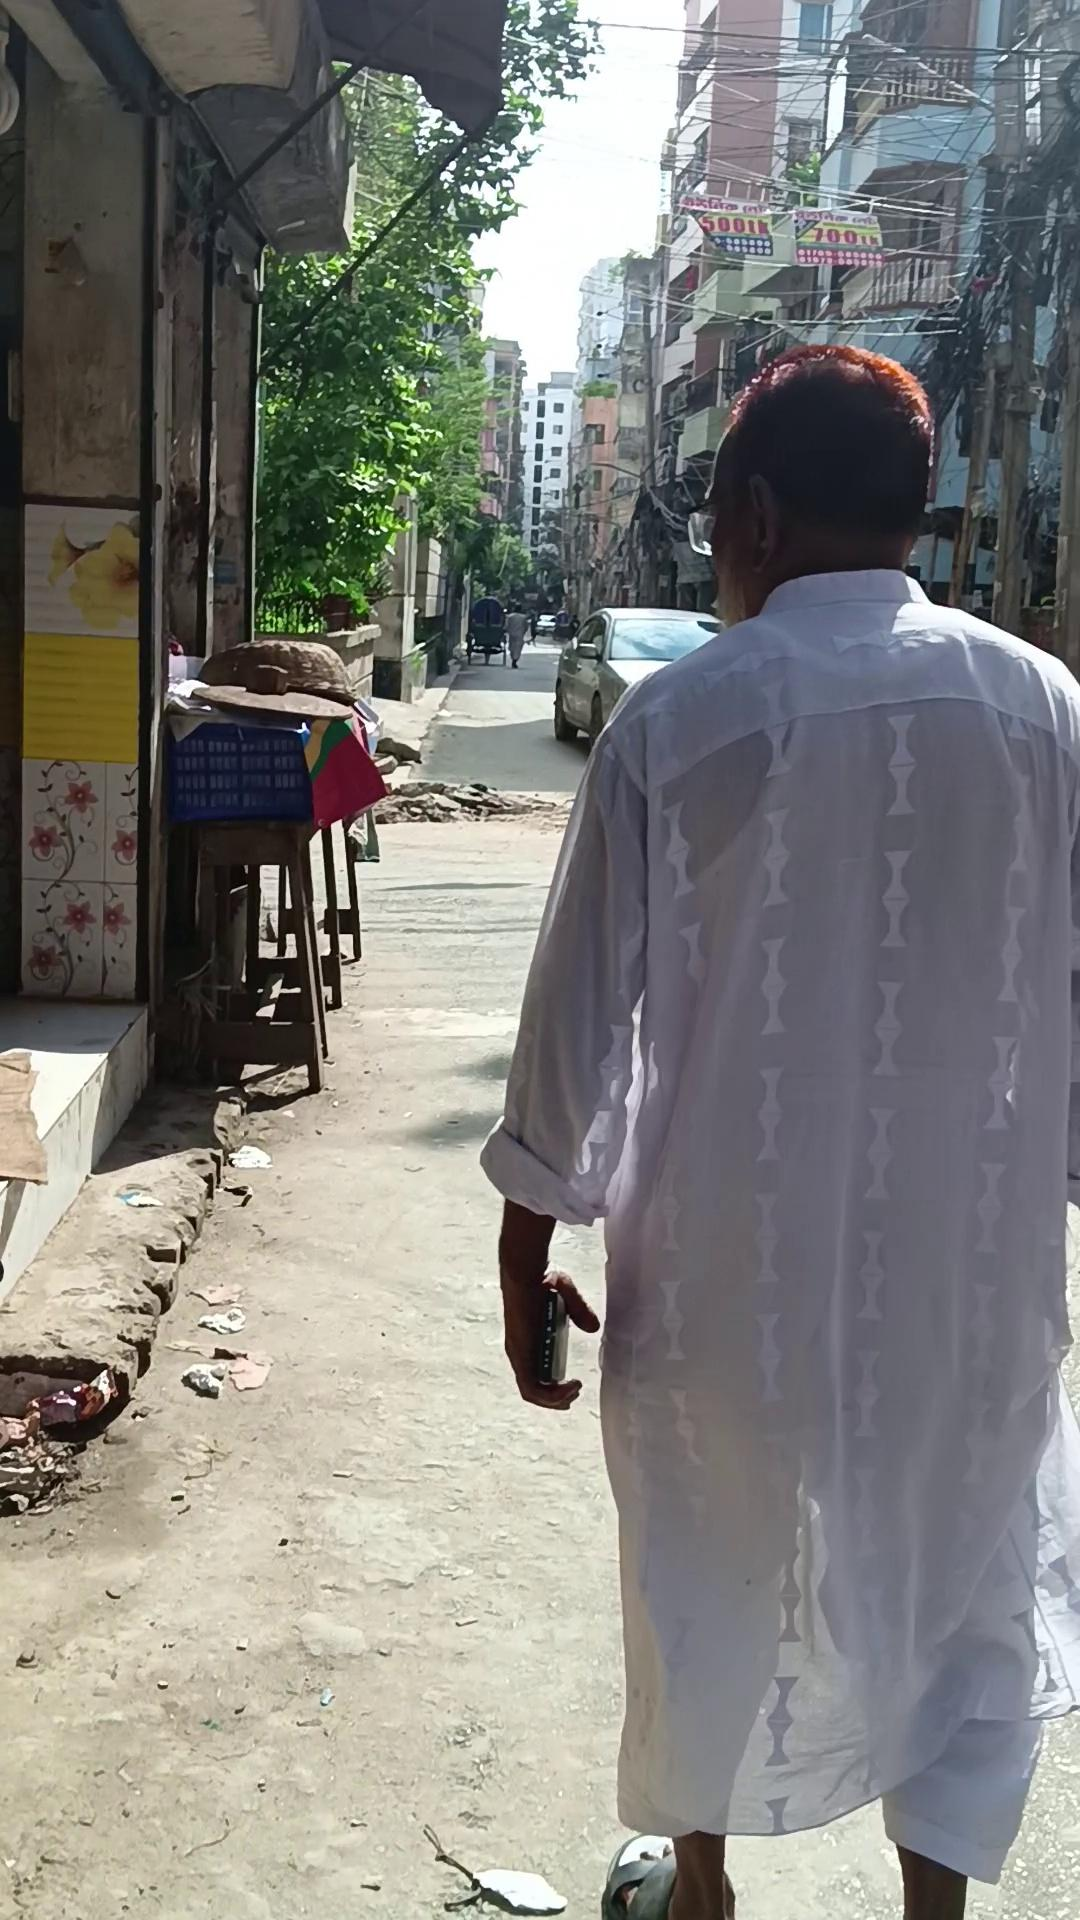Car: (553, 605, 727, 750)
Crosswalk: (0, 1139, 222, 1513), (0, 996, 152, 1305)
Motorcycle: (158, 655, 386, 1093)
Muddy road: (479, 342, 1079, 1917), (502, 600, 529, 669)
